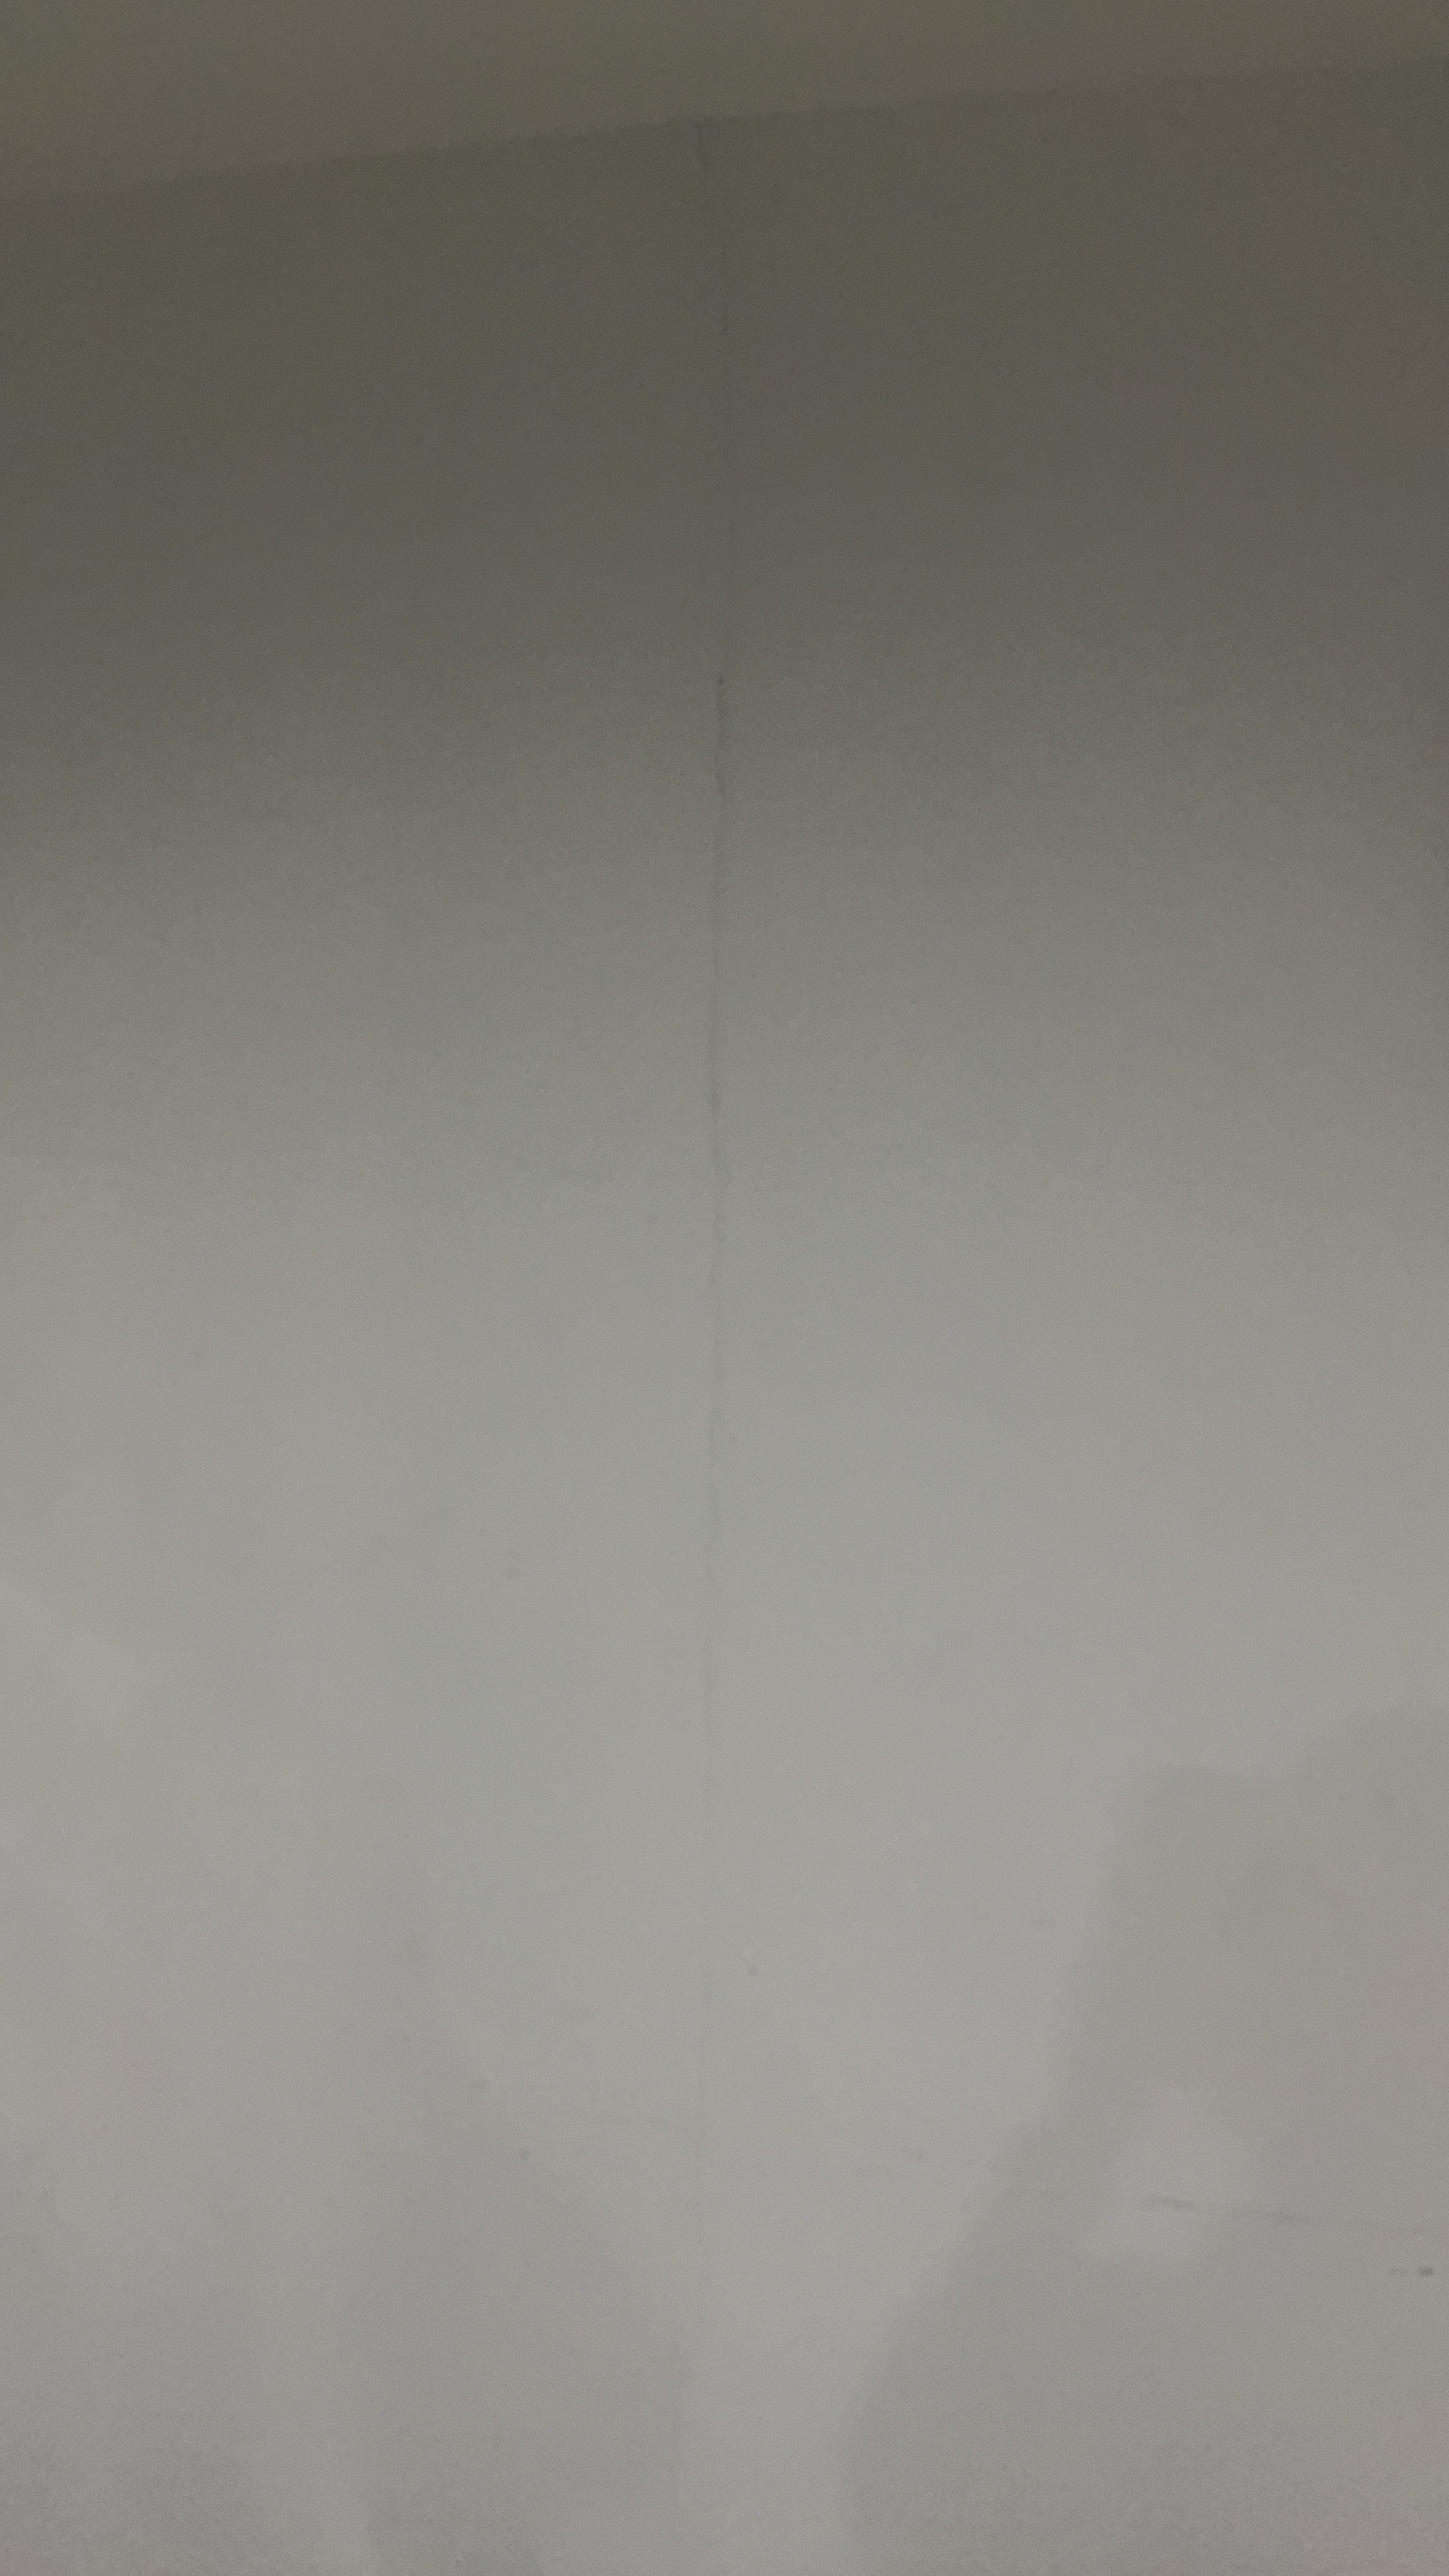Low: (609, 124, 909, 2468)
